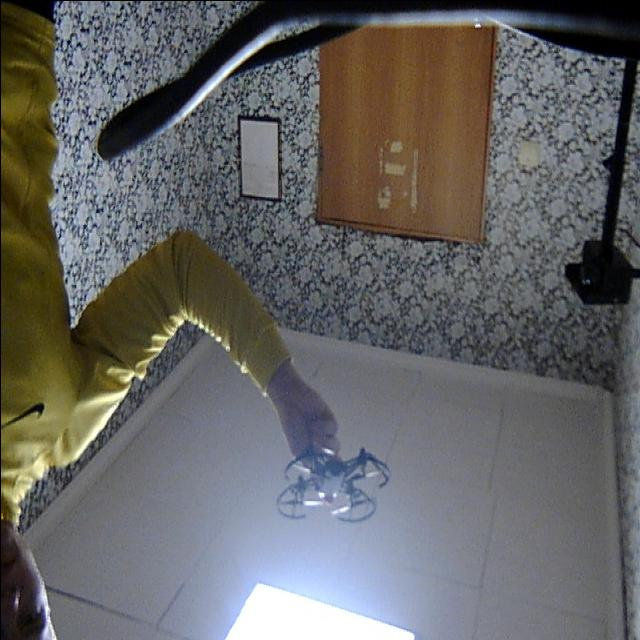drone: (272, 442, 391, 546)
